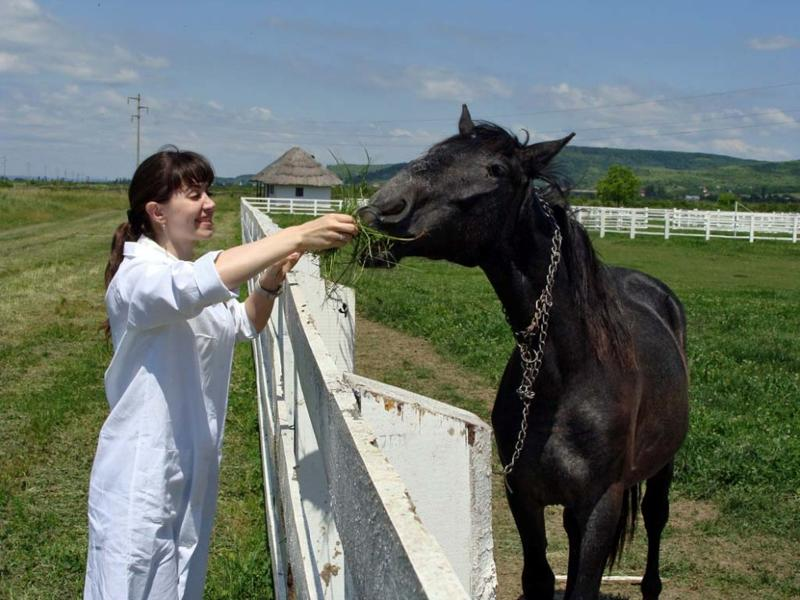person: (88, 149, 354, 600)
